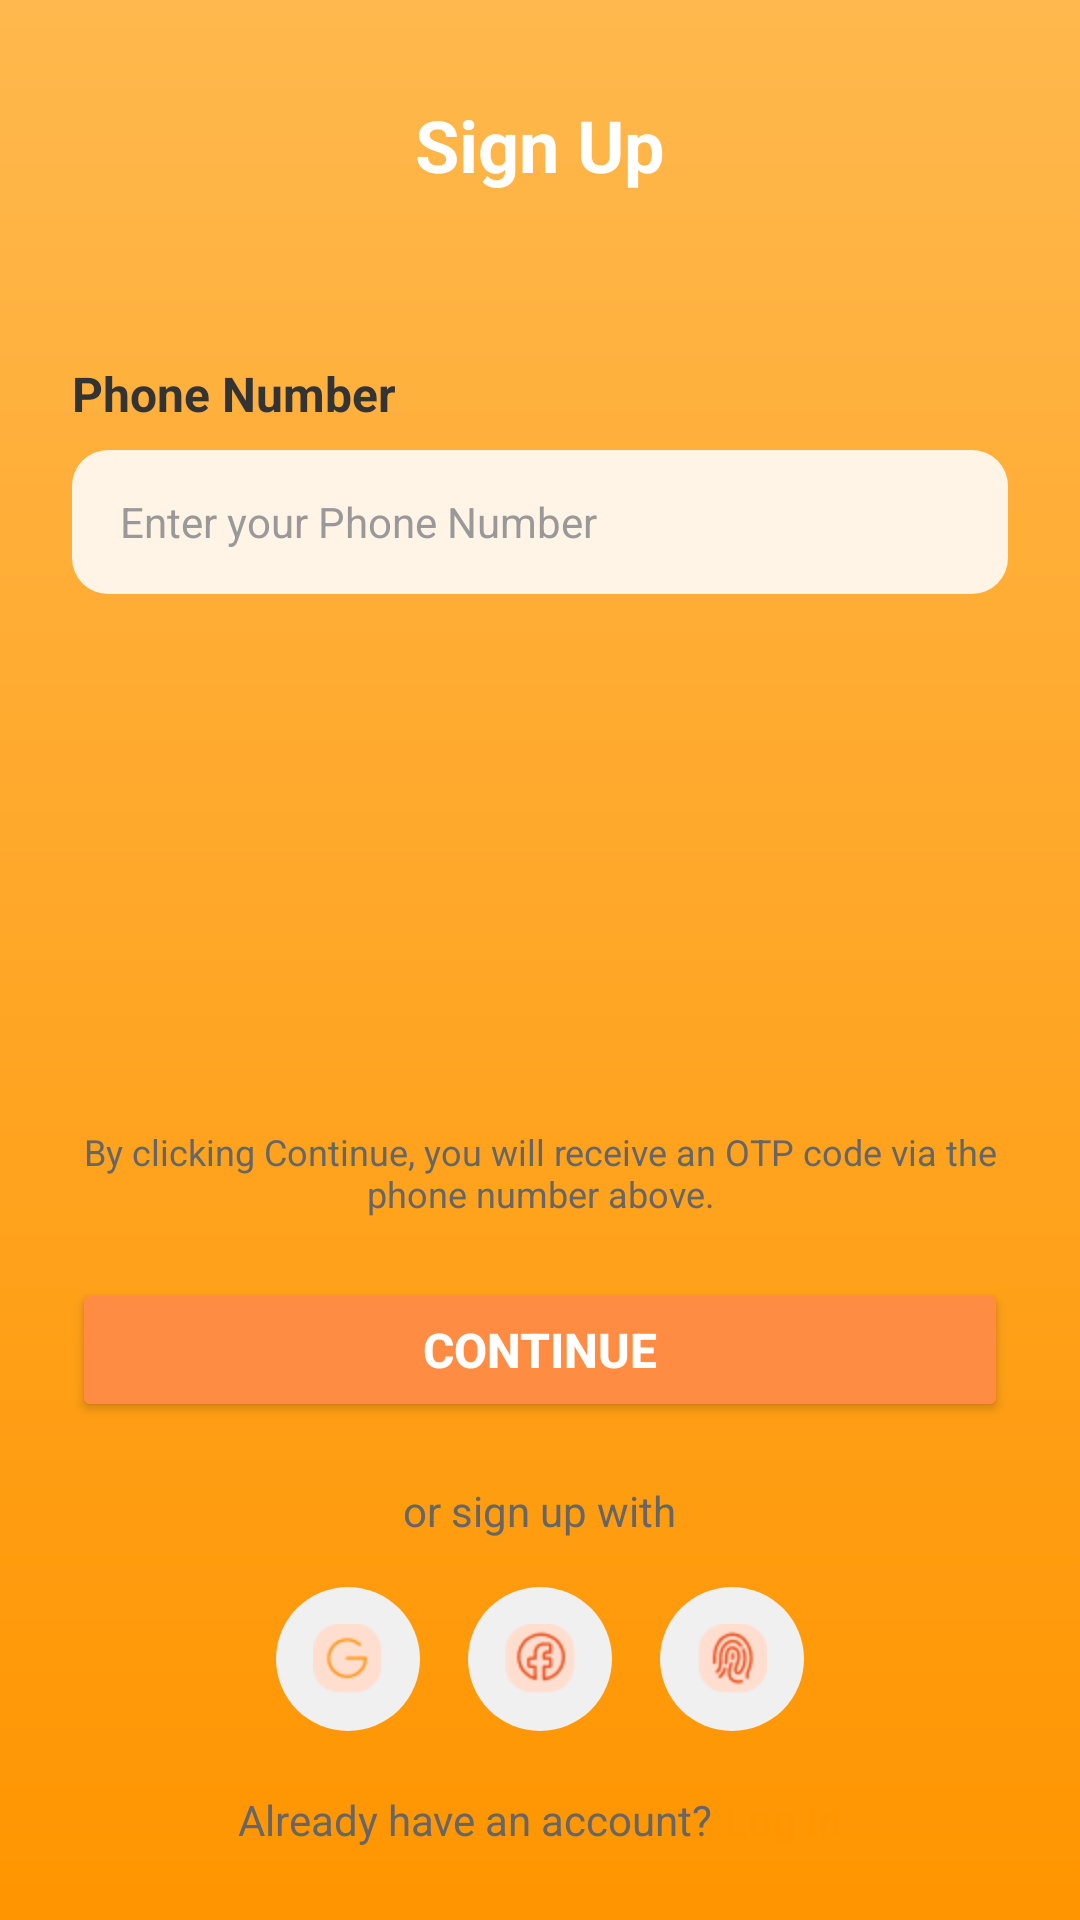

Screen size 1080w x 1920h. Icon name, then its box in pixels as (x1, y1, x2, y2):
fingerprint: (660, 1587, 804, 1731)
